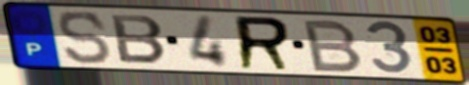3: (364, 18, 417, 78)
4: (185, 13, 231, 71)
B: (302, 18, 366, 74), (108, 12, 170, 66)
R: (232, 14, 295, 73)
S: (55, 9, 115, 66)
